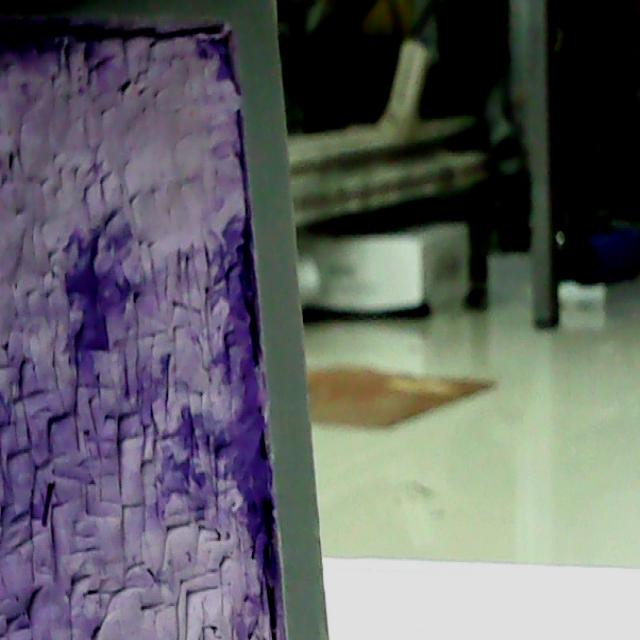block: (0, 0, 332, 640)
